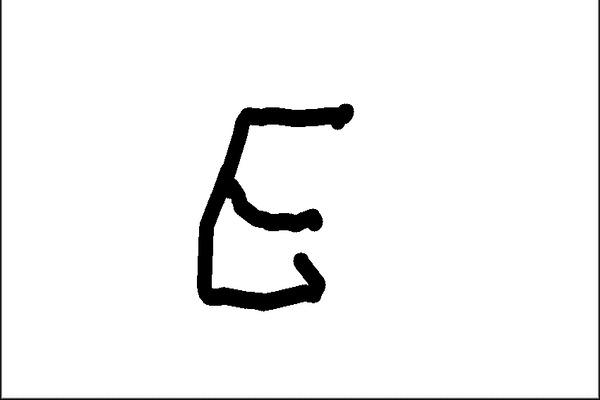E: (190, 99, 359, 314)
